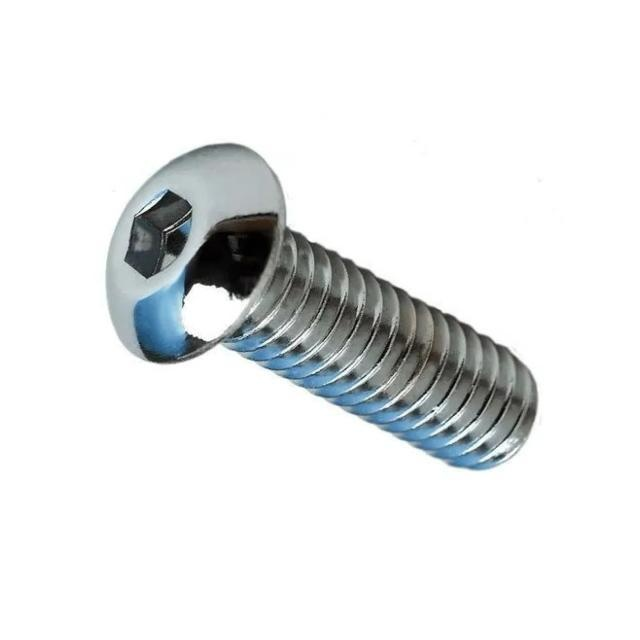allen: (105, 144, 283, 364)
